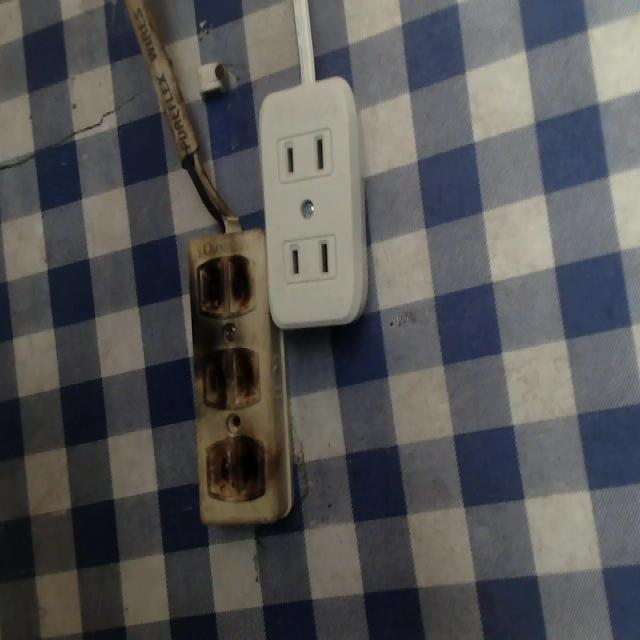-: (190, 340, 271, 412), (203, 430, 271, 502), (194, 247, 260, 317)
